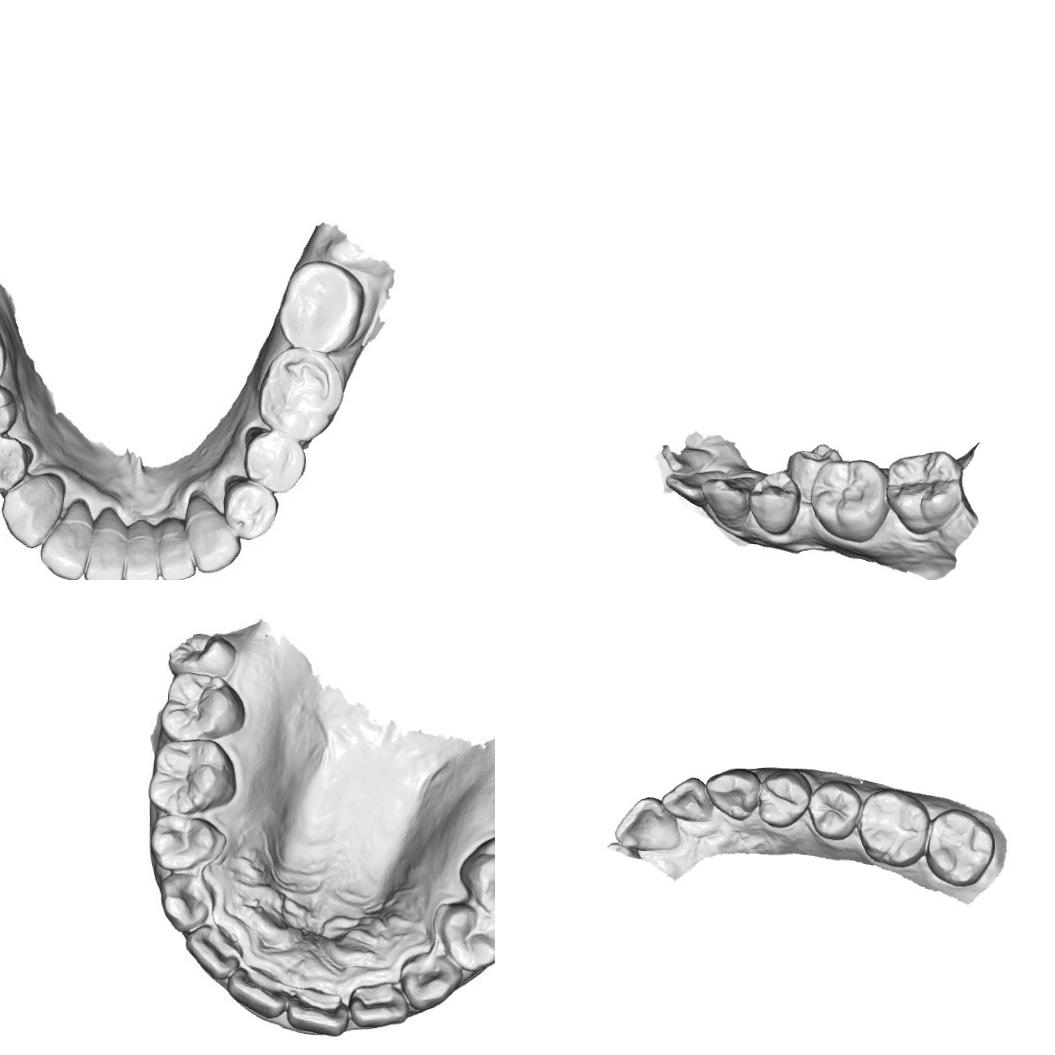canine: (0, 471, 66, 549), (182, 490, 240, 574), (399, 949, 464, 1012), (154, 869, 216, 935), (698, 474, 756, 531), (704, 766, 763, 822)
incisor: (613, 795, 684, 852), (223, 964, 291, 1022), (39, 509, 89, 580), (182, 921, 238, 984), (284, 986, 350, 1037), (81, 519, 132, 580), (347, 981, 408, 1029), (664, 467, 728, 510), (659, 775, 713, 824), (156, 514, 196, 580), (121, 521, 163, 580)
molar: (276, 256, 365, 353), (255, 344, 340, 440), (808, 456, 892, 544), (146, 738, 240, 816), (884, 448, 962, 536), (157, 668, 247, 744), (856, 786, 931, 869), (924, 807, 998, 888), (166, 630, 240, 677), (459, 833, 495, 927)
premolar: (148, 809, 224, 874), (241, 428, 310, 494), (437, 899, 495, 973), (220, 473, 281, 540), (806, 775, 863, 843), (785, 441, 844, 505), (746, 470, 803, 536), (757, 766, 812, 830), (0, 433, 34, 494), (0, 383, 21, 446)
